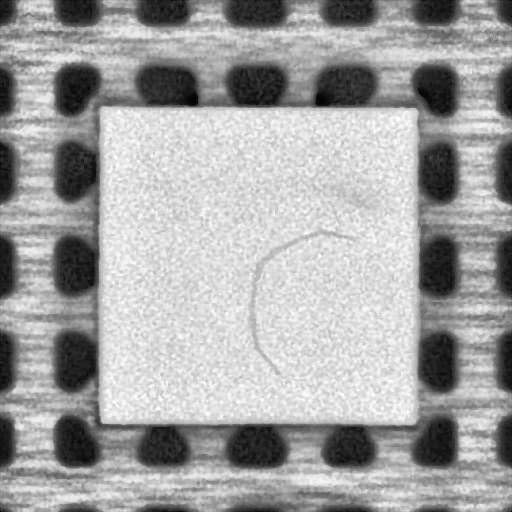DIE_CRACK: (245, 228, 358, 374)
